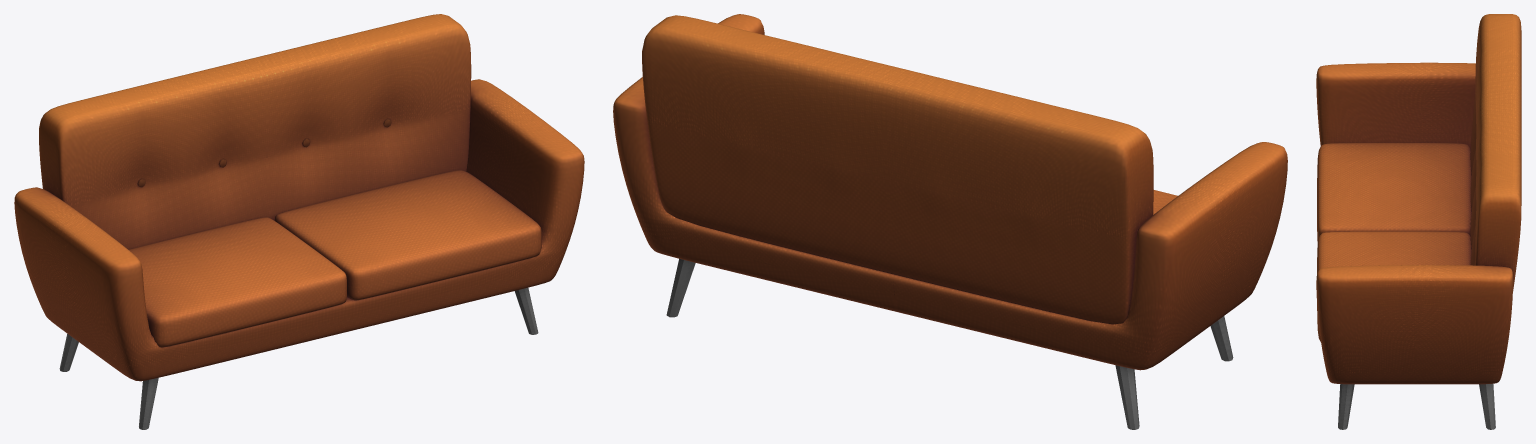
The model's file is Sofa.fbx.
The picture shows the model from 3 angles, left to right: view 1: azimuth 30°, elevation 25°; view 2: azimuth 150°, elevation 25°; view 3: azimuth 270°, elevation 25°; orthographic projection. The views are drawn at different scales.
Parts seen in each view (by area): view 1: Sofa; view 2: Sofa; view 3: Sofa.
Part boxes in pixels (x1,y1,x2,y2): Sofa: (14,14,584,429); Sofa: (613,14,1287,429); Sofa: (1316,14,1521,429).
Size of the model in its own units: 247 by 98.4 by 126.
1 material, 1 textured.
